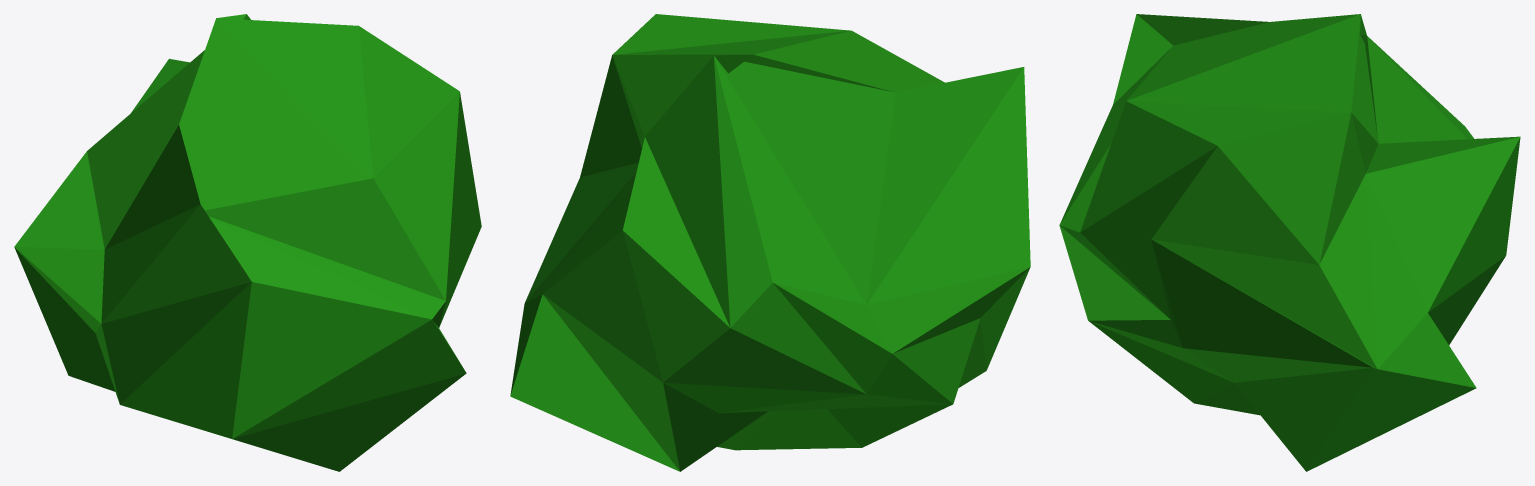
File: Bush2.fbx
3 renders of one model, left to right at view 1: azimuth 30°, elevation 25°; view 2: azimuth 150°, elevation 25°; view 3: azimuth 270°, elevation 25°, orthographic. The views are drawn at different scales.
Visible parts, largest first — view 1: Bush_2; view 2: Bush_2; view 3: Bush_2.
Part boxes in pixels (box(x1,y1,x2,y2)): Bush_2: box(14, 14, 481, 471); Bush_2: box(510, 14, 1030, 471); Bush_2: box(1059, 14, 1520, 471).
Size of the model in its own units: 73.73 by 73.48 by 79.58.
